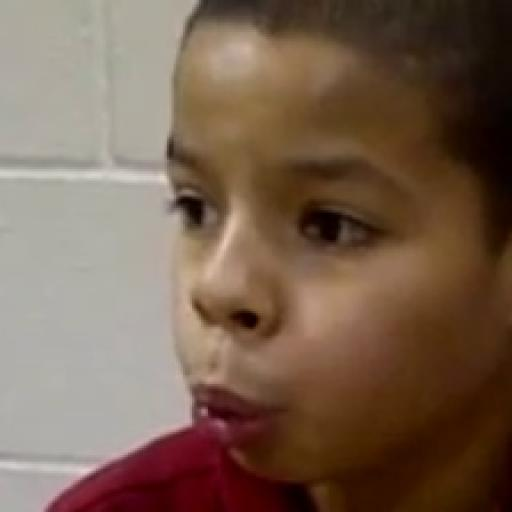Autism: (129, 5, 512, 468)
